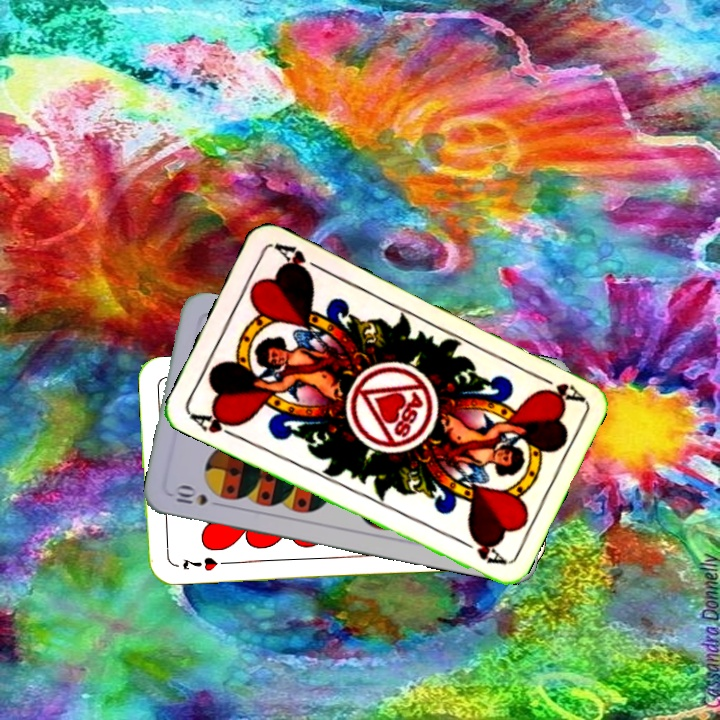H7: (178, 553, 220, 574)
HA: (529, 369, 585, 405), (186, 407, 243, 442)
S10: (168, 482, 211, 509)
